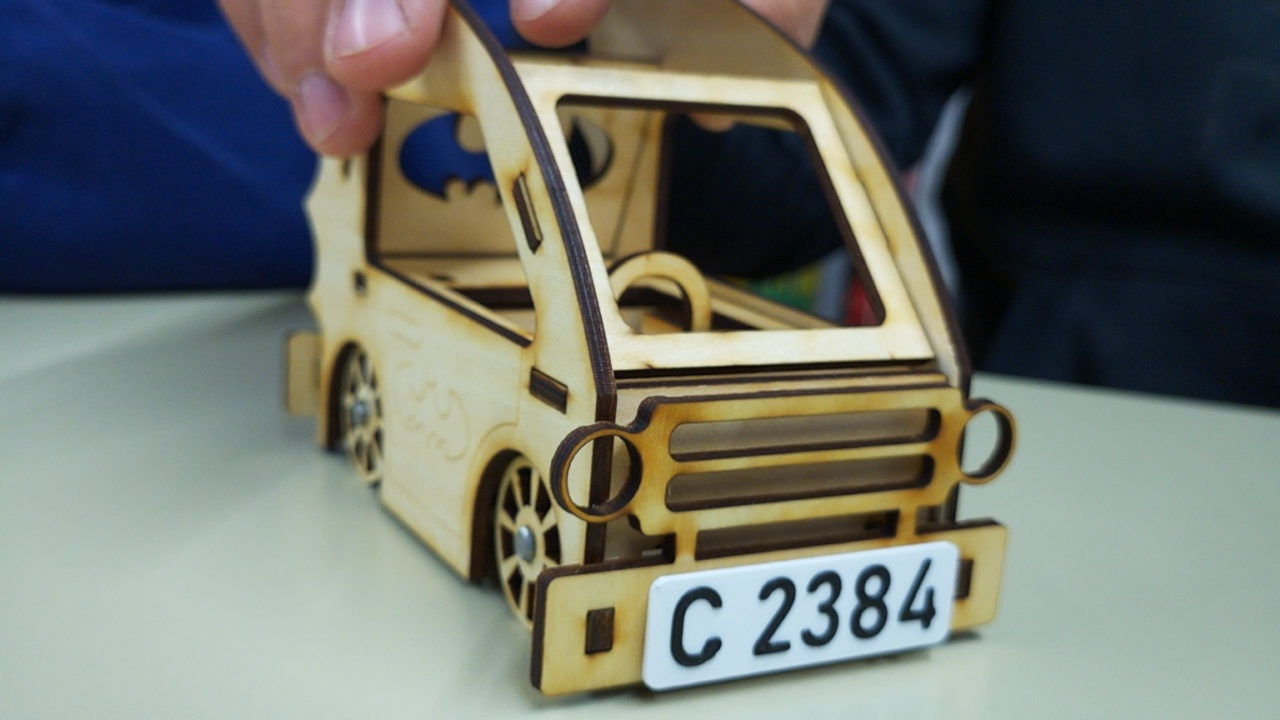license_plate: (639, 539, 962, 693)
